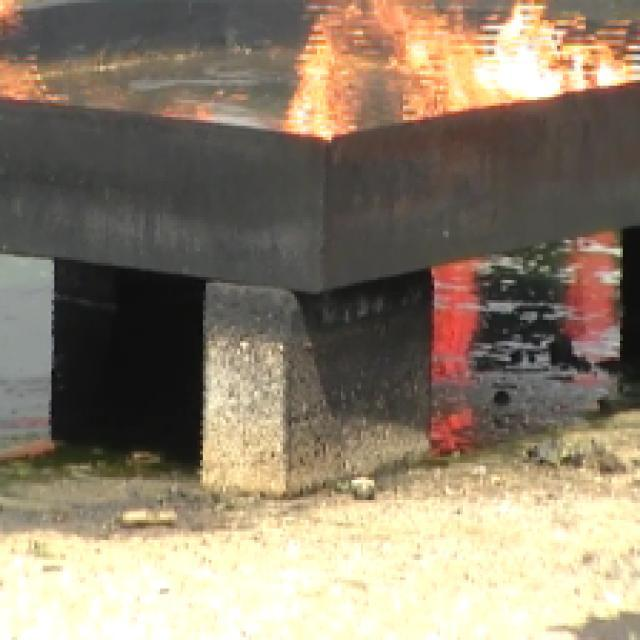Fire: (300, 20, 582, 100)
